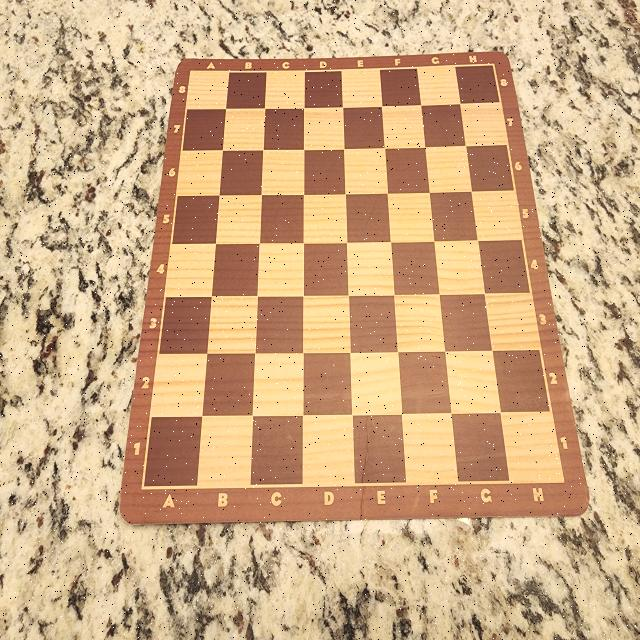Bottom-Left: (142, 416, 203, 491)
Bottom-Right: (500, 413, 564, 482)
Top-Left: (190, 71, 226, 108)
Top-Right: (460, 62, 495, 104)
